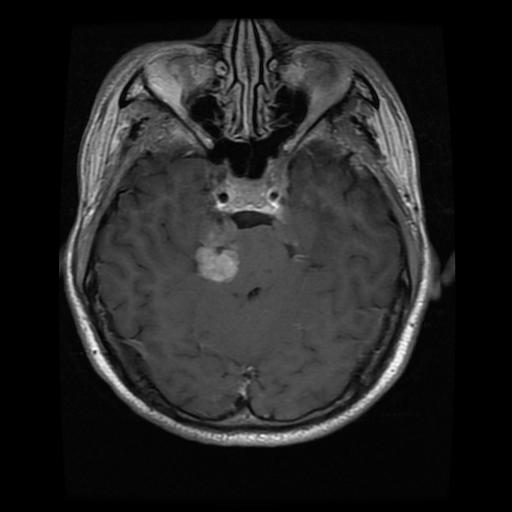Menigiomia_tumour: (194, 244, 236, 278)
